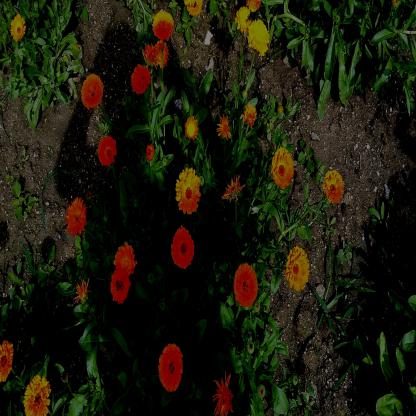marigold: (158, 344, 184, 388), (170, 226, 195, 271), (23, 375, 51, 415), (176, 168, 199, 211), (235, 264, 258, 305), (286, 247, 309, 288), (273, 147, 294, 187), (109, 268, 131, 304), (213, 375, 234, 412), (248, 19, 269, 54), (114, 245, 137, 275), (82, 74, 102, 108), (66, 199, 85, 233), (324, 168, 343, 202), (0, 340, 13, 381), (132, 65, 152, 90), (154, 11, 172, 37), (98, 138, 115, 162), (183, 119, 199, 142), (154, 41, 169, 65), (11, 15, 26, 38), (236, 6, 249, 32), (218, 116, 232, 139), (187, 0, 202, 17), (244, 108, 255, 124)
